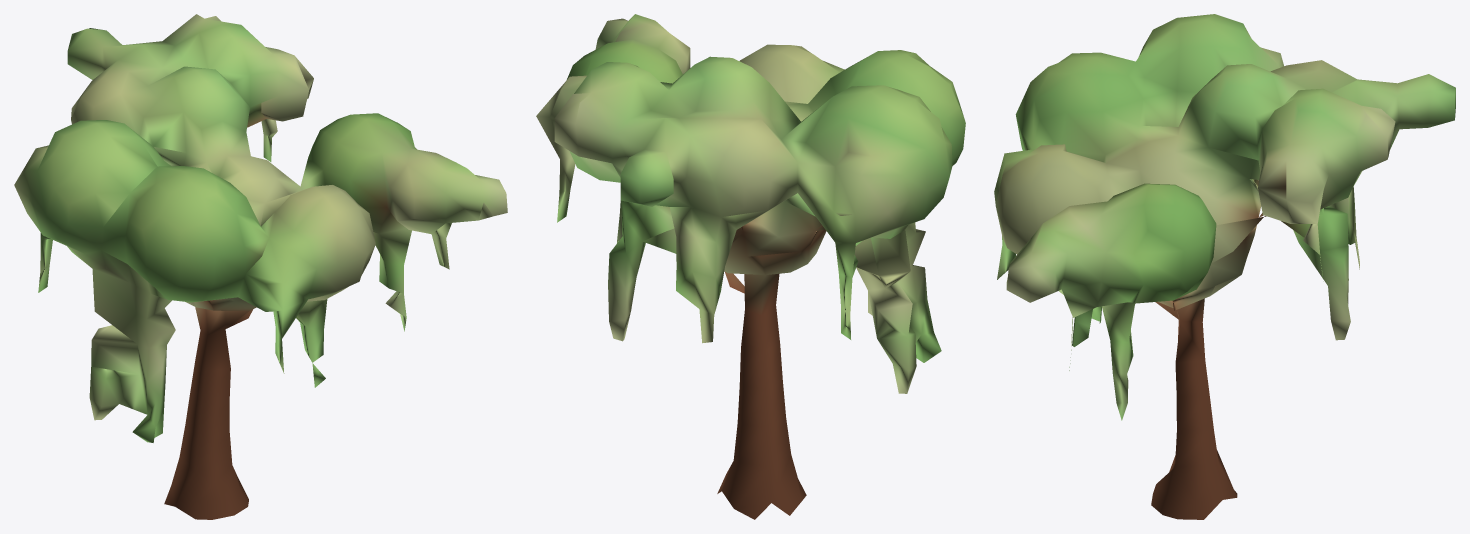
The model's file is weeping-tree-107-lod2.obj.
3 views of the same model, side by side, from view 1: azimuth 30°, elevation 25°; view 2: azimuth 150°, elevation 25°; view 3: azimuth 270°, elevation 25° (orthographic). The views are drawn at different scales.
Visible parts, largest first — view 1: simplified; view 2: simplified; view 3: simplified.
Boxes of the visible parts, left/top/right/bottom form: simplified: left=14, top=14, right=507, bottom=519; simplified: left=536, top=14, right=965, bottom=519; simplified: left=994, top=14, right=1455, bottom=519.
Bounding box in the file's own units: 325 × 336 × 316.
